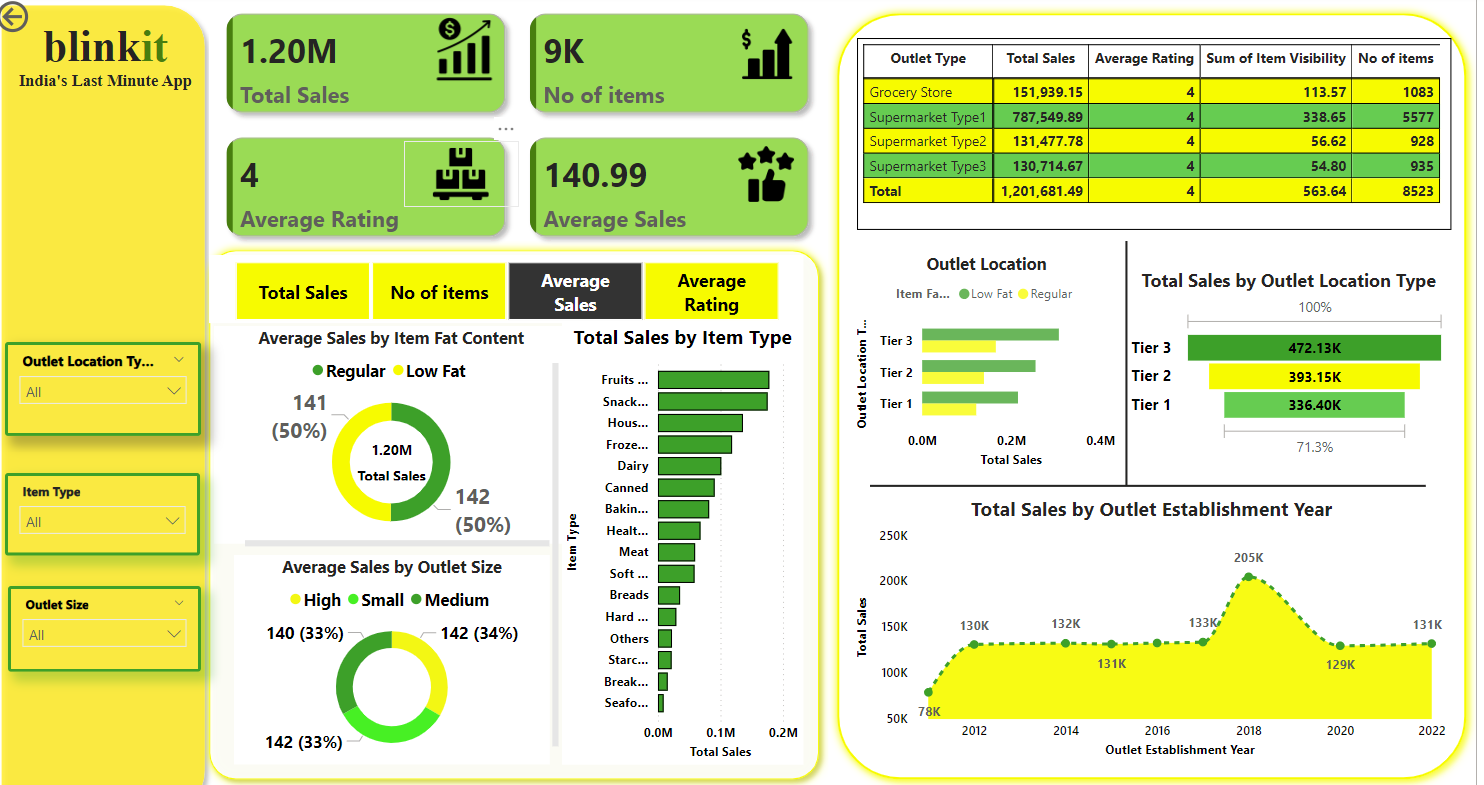

This screenshot's page, from the dashboard's own definition file:
{"tool":"powerbi","page":{"name":"Page 1","canvas":[1438,768],"ordinal":0},"visuals":[{"type":"shape","box":[0,0,215.3,799.4],"z":0},{"type":"textbox","box":[257.5,0,215,800],"z":1000},{"type":"textbox","box":[19.5,19.5,180.5,120.3],"z":2000},{"type":"cardVisual","fields":{"Data":["Table1.Total Sales","Table1.No of items","Table1.Average Rating","Table1.Average Sales"]},"box":[210.7,0,599.4,251.3],"z":3000},{"type":"image","box":[713.4,140.5,73.4,64],"z":4000},{"type":"image","box":[415.2,15.6,84.3,71.8],"z":5000},{"type":"image","box":[399.6,140.5,110.8,64],"z":6000},{"type":"image","box":[714.9,25,71.8,62.4],"z":7000},{"type":"shape","box":[201.4,237.3,608.8,530.7],"z":8000},{"type":"donutChart","fields":{"Y":["Table1.Average Sales"],"Category":["Table1.Item Fat Content"]},"box":[215.4,320,343.4,210.7],"z":9000},{"type":"slicer","fields":{"Values":["Metrics.Metrics"]},"box":[210.7,251.3,576,65.6],"z":10000},{"type":"card","fields":{"Values":["Table1.Total Sales"]},"box":[345,426.1,84.3,48.4],"z":11000},{"type":"shape","box":[245.1,519.8,295,21.9],"z":12000},{"type":"shape","box":[540.1,355.9,12.5,371.5],"z":13000},{"type":"barChart","fields":{"Category":["Table1.Item Type"],"Y":["Table1.Total Sales"]},"box":[552.6,316.9,234.1,427.7],"z":14000},{"type":"slicer","fields":{"Values":["Table1.Outlet Location Type"]},"box":[12.5,335.6,190.4,90.5],"z":15000},{"type":"slicer","fields":{"Values":["Table1.Item Type"]},"box":[12.5,462,188.9,79.6],"z":16000},{"type":"slicer","fields":{"Values":["Table1.Outlet Size"]},"box":[15.6,571.3,187.3,82.7],"z":17000},{"type":"shape","box":[810.1,7.8,627.5,760.2],"z":18000},{"type":"lineChart","fields":{"Category":["Table1.Outlet Establishment Year"],"Y":["Table1.Total Sales"]},"box":[833.6,483.9,580.7,259.1],"z":19000},{"type":"actionButton","box":[0,0,100,40],"z":20000},{"type":"donutChart","fields":{"Y":["Table1.Average Sales"],"Category":["Table1.Outlet Size"]},"box":[234.1,541.7,306,202.9],"z":21000},{"type":"funnel","fields":{"Y":["Table1.Total Sales"],"Category":["Table1.Outlet Location Type"]},"box":[1098.9,262.2,315.3,188.9],"z":22000},{"type":"pivotTable","fields":{"Rows":["Table1.Outlet Type"],"Values":["Table1.Total Sales","Table1.Average Rating","Sum(Table1.Item Visibility)","Table1.No of items"]},"box":[838.2,40.6,576,185.8],"z":23000},{"type":"clusteredBarChart","title":" Outlet Location  ","fields":{"Category":["Table1.Outlet Location Type","Table1.Outlet Type"],"Series":["Table1.Item Fat Content"],"Y":["Table1.Total Sales"]},"box":[833.6,248.2,260.7,213.9],"z":24000},{"type":"shape","box":[1092.7,237.3,12.5,237.3],"z":25000},{"type":"shape","box":[850.7,293.5,538.5,362.1],"z":25001}]}

Visuals, with their boxes in screenshot pixels (x1, y1, x2, y2), scaled from the page's 1438x768 canvas onto the 1484x785 screenshot:
shape: left=0, top=0, right=222, bottom=784
textbox: left=266, top=0, right=488, bottom=784
textbox: left=20, top=20, right=206, bottom=143
cardVisual - Table1.Total Sales x Table1.No of items: left=217, top=0, right=836, bottom=257
image: left=736, top=144, right=812, bottom=209
image: left=428, top=16, right=515, bottom=89
image: left=412, top=144, right=527, bottom=209
image: left=738, top=26, right=812, bottom=89
shape: left=208, top=243, right=836, bottom=784
donutChart - Table1.Average Sales x Table1.Item Fat Content: left=222, top=327, right=577, bottom=542
slicer - Metrics.Metrics: left=217, top=257, right=812, bottom=324
card - Table1.Total Sales: left=356, top=436, right=443, bottom=485
shape: left=253, top=531, right=557, bottom=554
shape: left=557, top=364, right=570, bottom=744
barChart - Table1.Item Type x Table1.Total Sales: left=570, top=324, right=812, bottom=761
slicer - Table1.Outlet Location Type: left=13, top=343, right=209, bottom=436
slicer - Table1.Item Type: left=13, top=472, right=208, bottom=554
slicer - Table1.Outlet Size: left=16, top=584, right=209, bottom=668
shape: left=836, top=8, right=1483, bottom=784
lineChart - Table1.Outlet Establishment Year x Table1.Total Sales: left=860, top=495, right=1460, bottom=759
actionButton: left=0, top=0, right=103, bottom=41
donutChart - Table1.Average Sales x Table1.Outlet Size: left=242, top=554, right=557, bottom=761
funnel - Table1.Total Sales x Table1.Outlet Location Type: left=1134, top=268, right=1459, bottom=461
pivotTable - Table1.Outlet Type x Table1.Total Sales: left=865, top=41, right=1459, bottom=231
" Outlet Location  " clusteredBarChart: left=860, top=254, right=1129, bottom=472
shape: left=1128, top=243, right=1141, bottom=485
shape: left=878, top=300, right=1434, bottom=670
